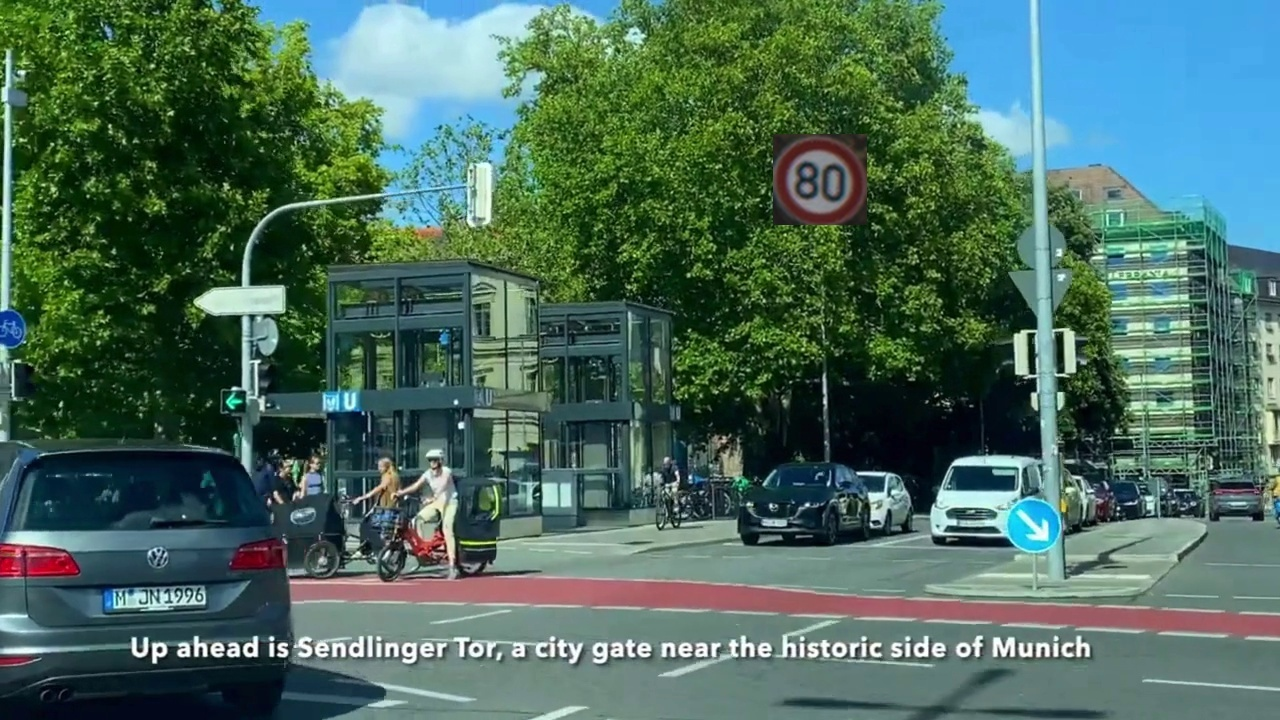Speed 80: (773, 134, 867, 225)
